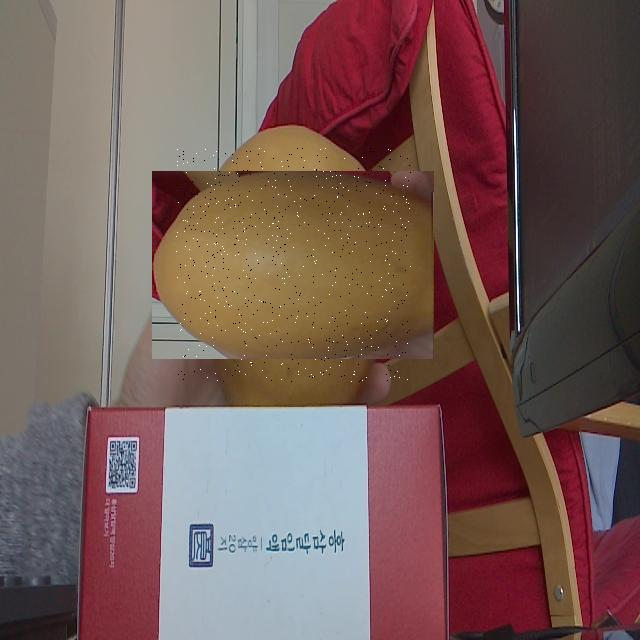pear: (176, 148, 411, 382)
